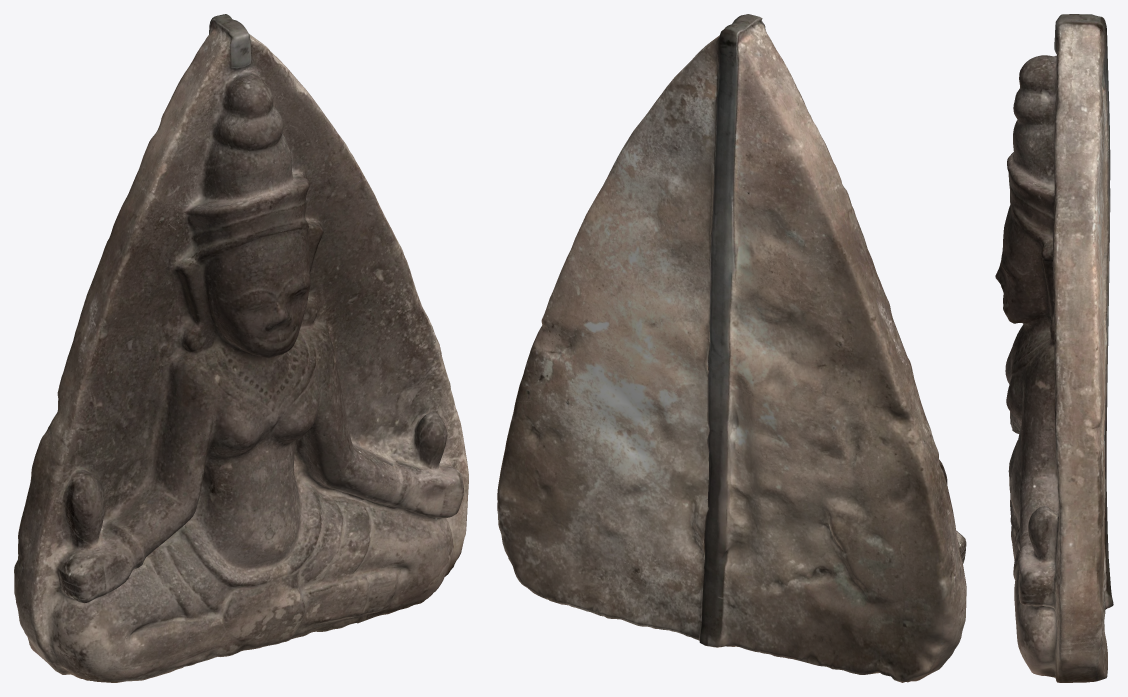
File: 27_laskmi_final.glb
The picture shows the model from 3 angles, left to right: view 1: azimuth 30°, elevation 25°; view 2: azimuth 150°, elevation 25°; view 3: azimuth 270°, elevation 25°; orthographic projection. The views are drawn at different scales.
Bounding box in the file's own units: 0.4382 × 0.5803 × 0.1059.
1 material, 1 textured.
